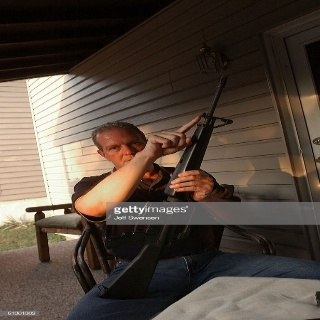rifle: (97, 74, 233, 300)
